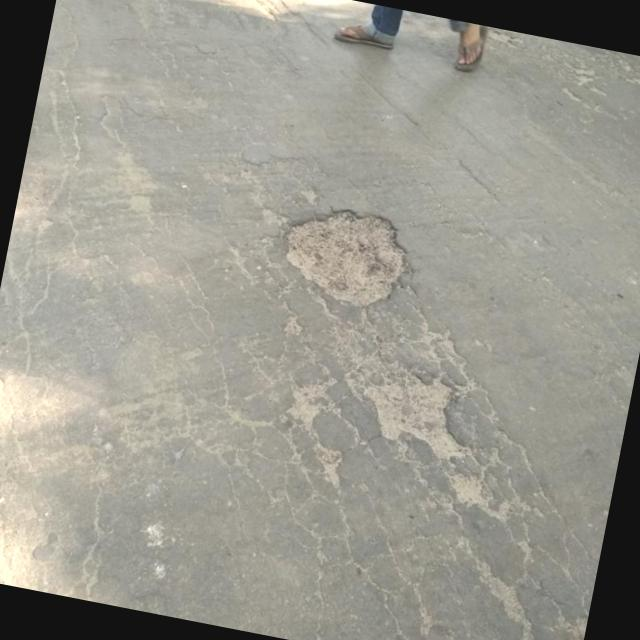Lubang: (287, 211, 404, 307), (364, 374, 467, 459)
